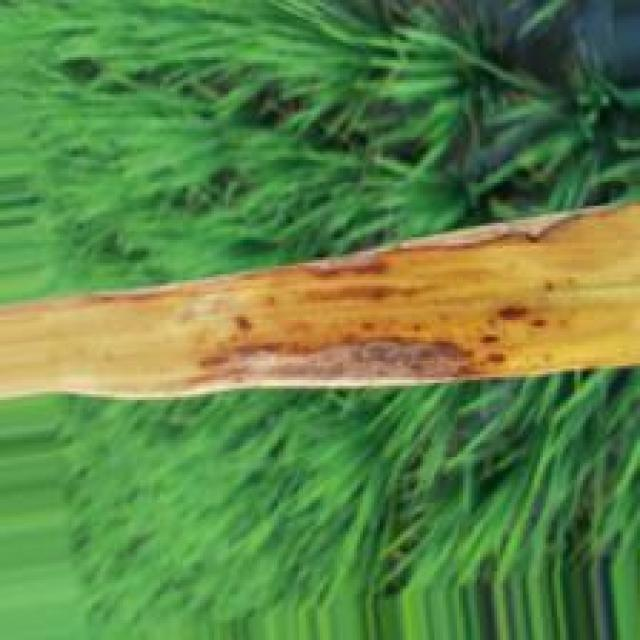Rice False Smut: (236, 206, 630, 283), (184, 306, 506, 398), (489, 302, 548, 335)
